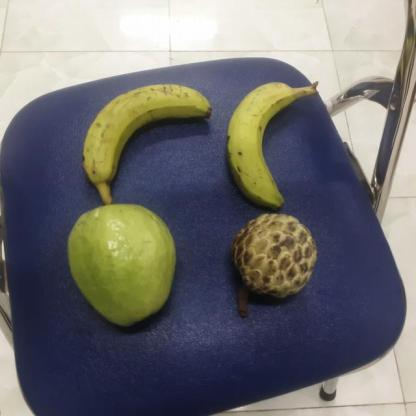annona: (228, 209, 319, 300)
banana: (80, 79, 213, 192), (223, 78, 303, 209)
guava: (64, 196, 180, 330)
